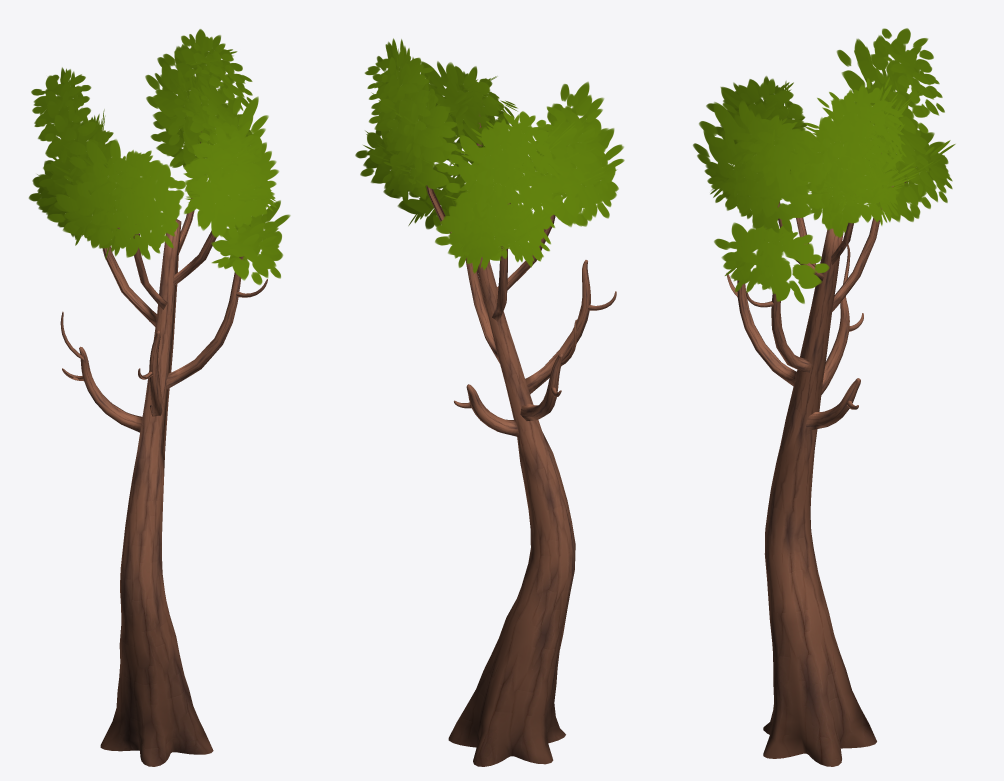
The model's file is tree-transformed.glb.
3 renders of one model, left to right at view 1: azimuth 30°, elevation 25°; view 2: azimuth 150°, elevation 25°; view 3: azimuth 270°, elevation 25°, orthographic. The views are drawn at different scales.
Visible parts, largest first — view 1: CommonTree_4; view 2: CommonTree_4; view 3: CommonTree_4.
Boxes of the visible parts, x1,y1,x2,y2 form: CommonTree_4: (28, 29, 290, 766); CommonTree_4: (355, 38, 624, 766); CommonTree_4: (693, 28, 955, 766).
Size of the model in its own units: 3.83 by 9.44 by 3.76.
Materials: 2 (2 with a texture image).
